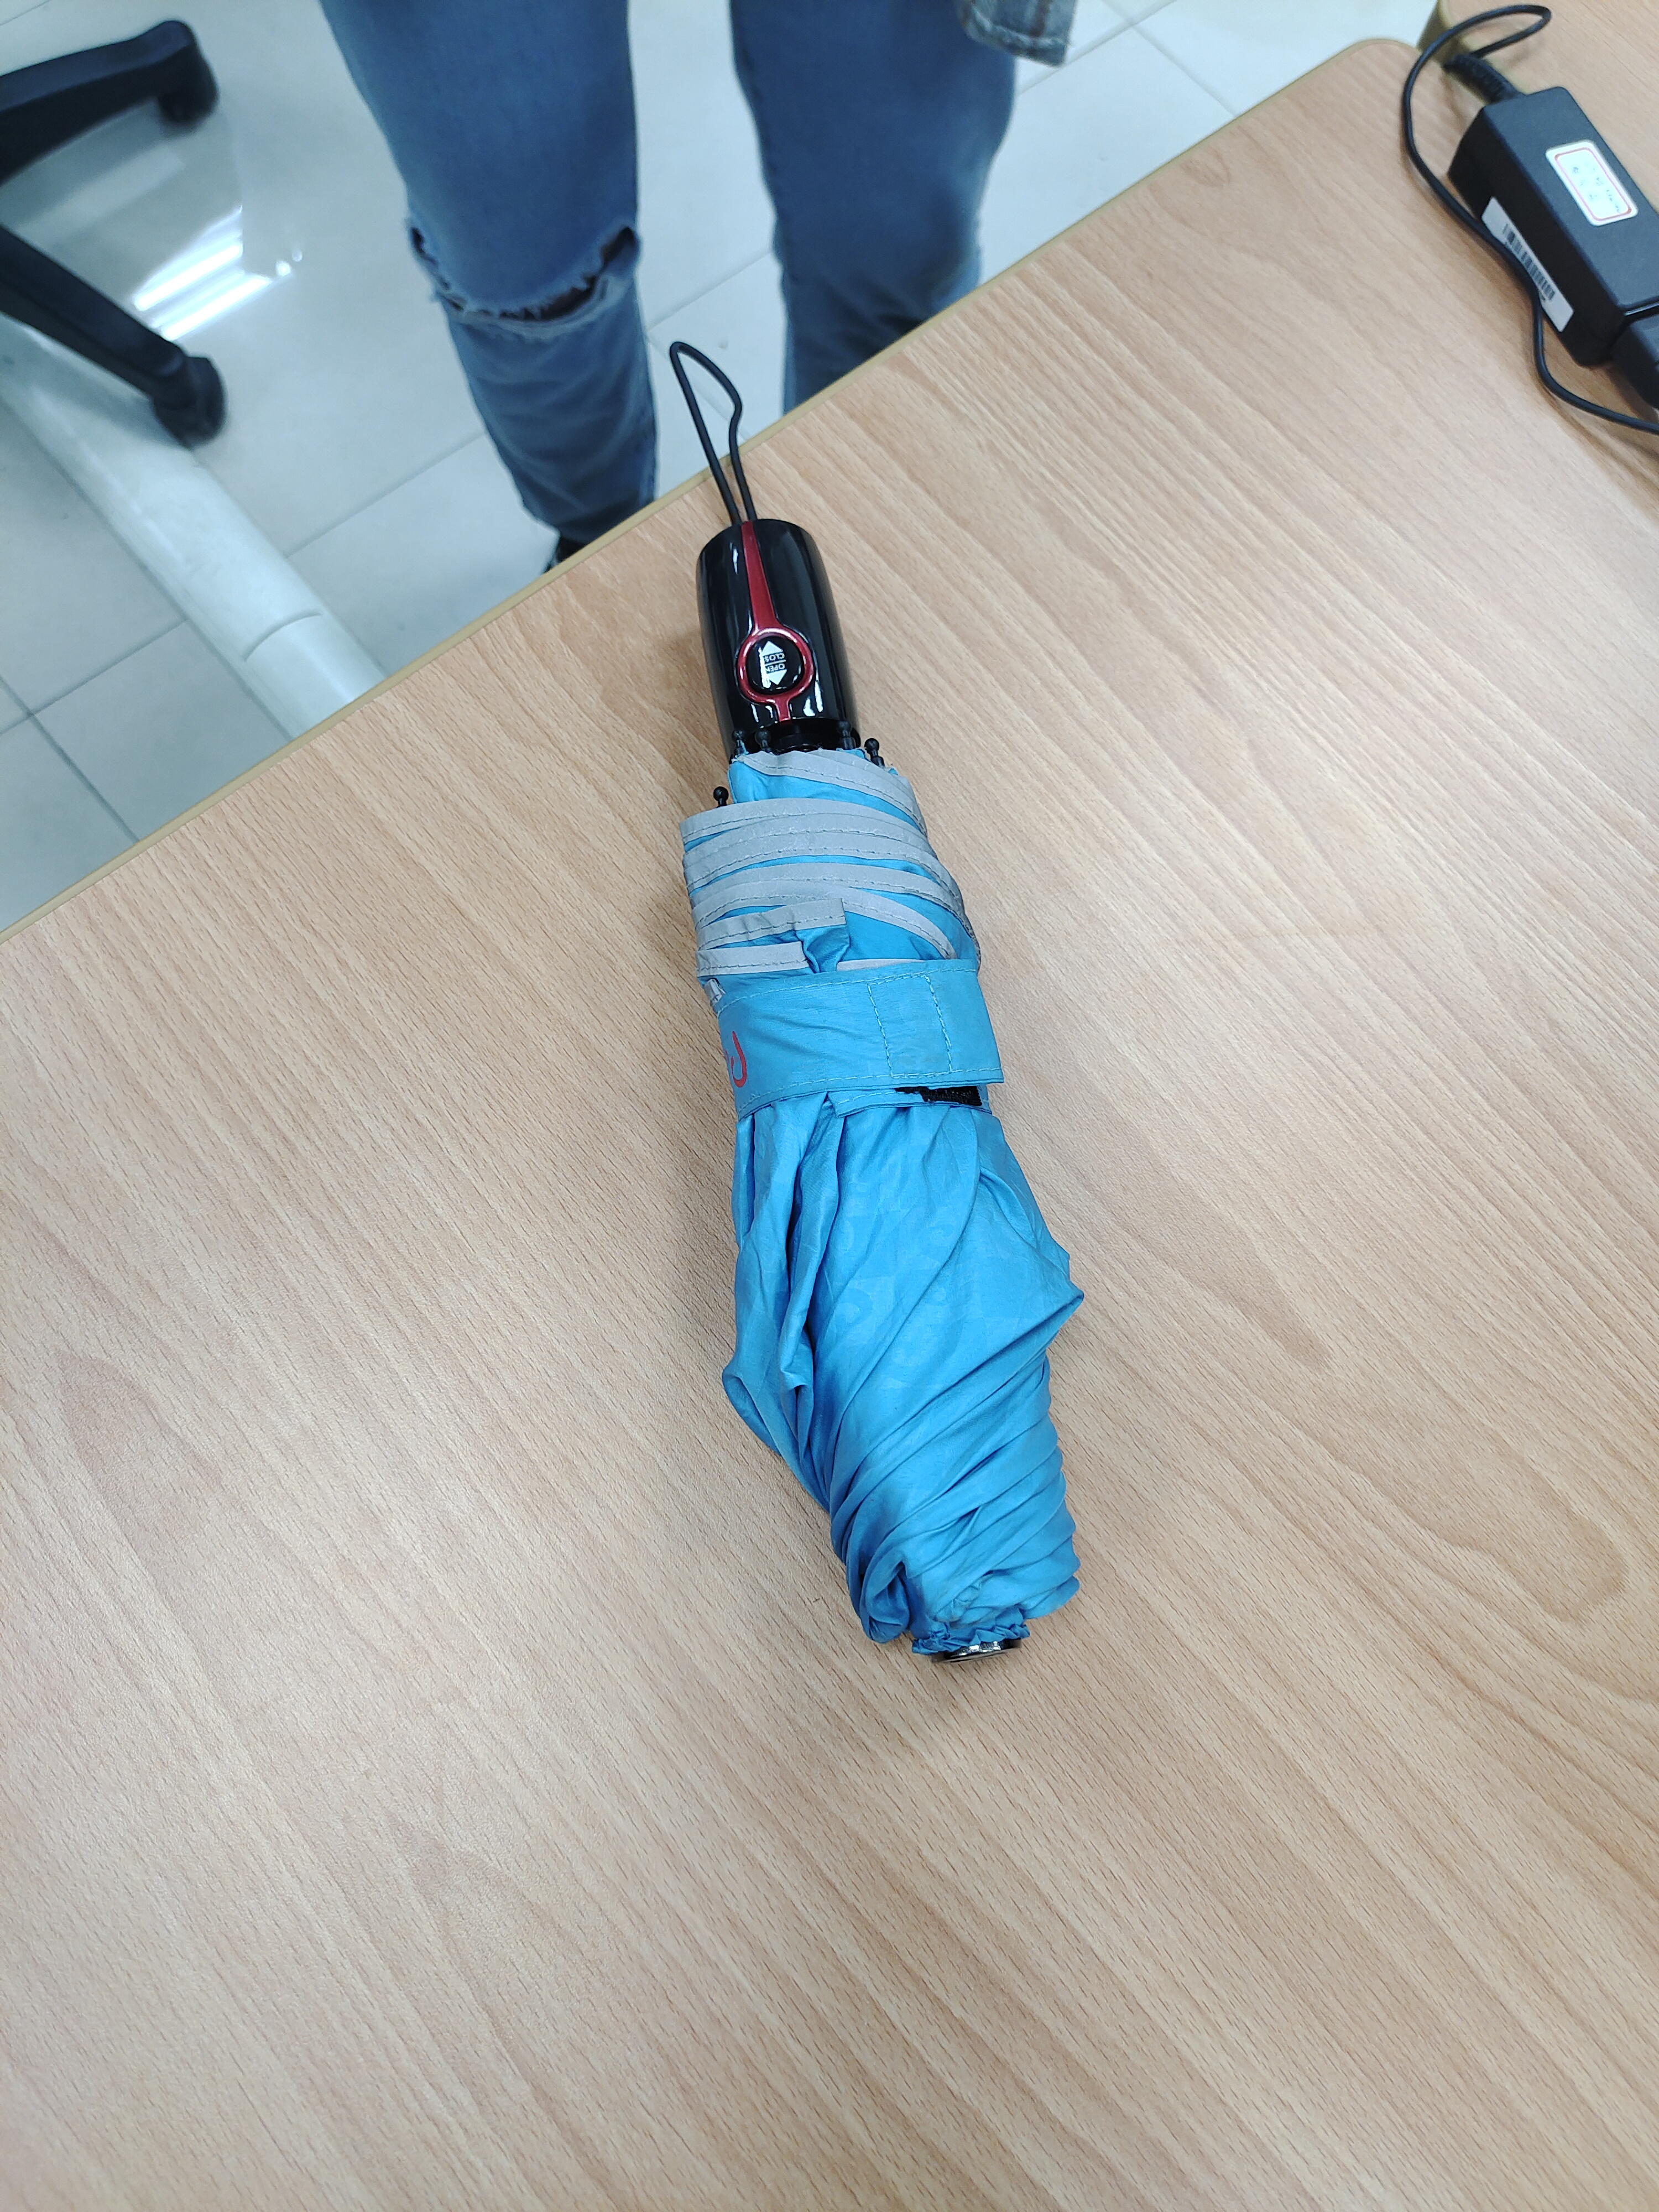Umbrella: (657, 336, 1115, 1672)
